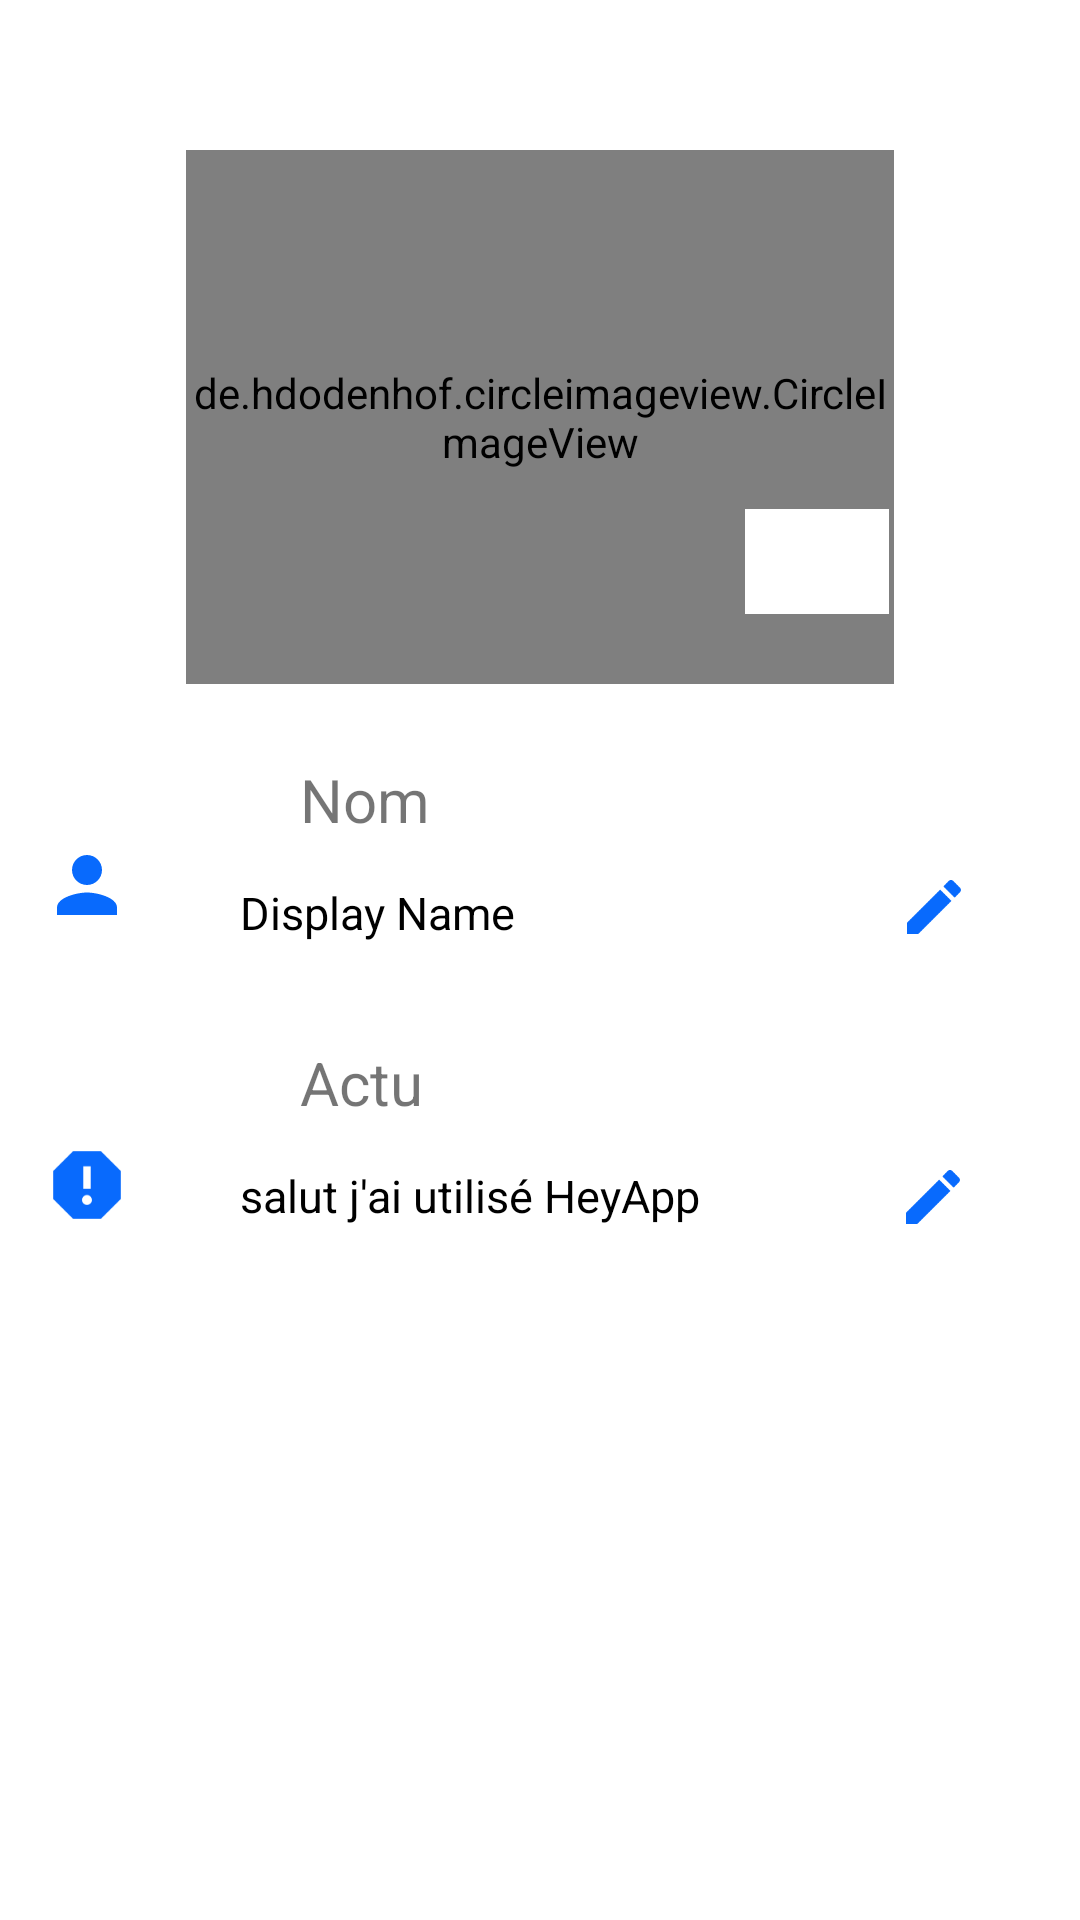

Locate icon controls on the screen. Image size 1080w x 1920h, boxes as detection(x1, y1, x2, y2).
mode: detection(907, 880, 961, 934), detection(906, 1170, 960, 1224)
person: detection(57, 855, 117, 915)
report: detection(53, 1151, 121, 1219)
